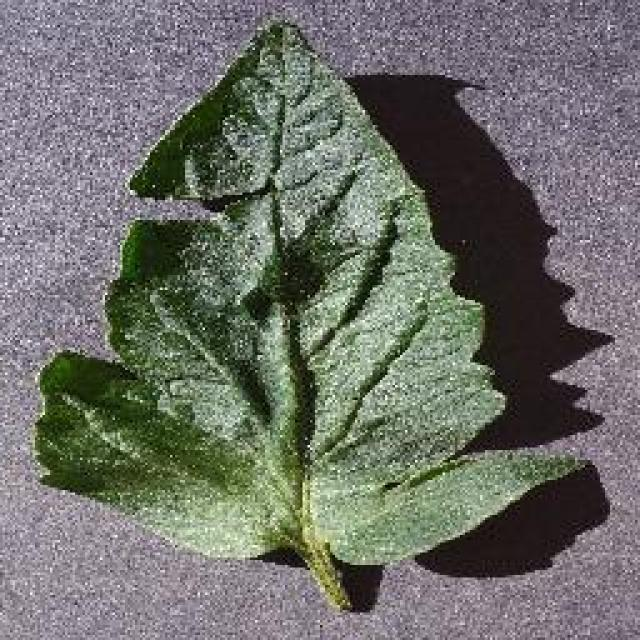Tomato healthy leaf: (46, 19, 554, 586)
